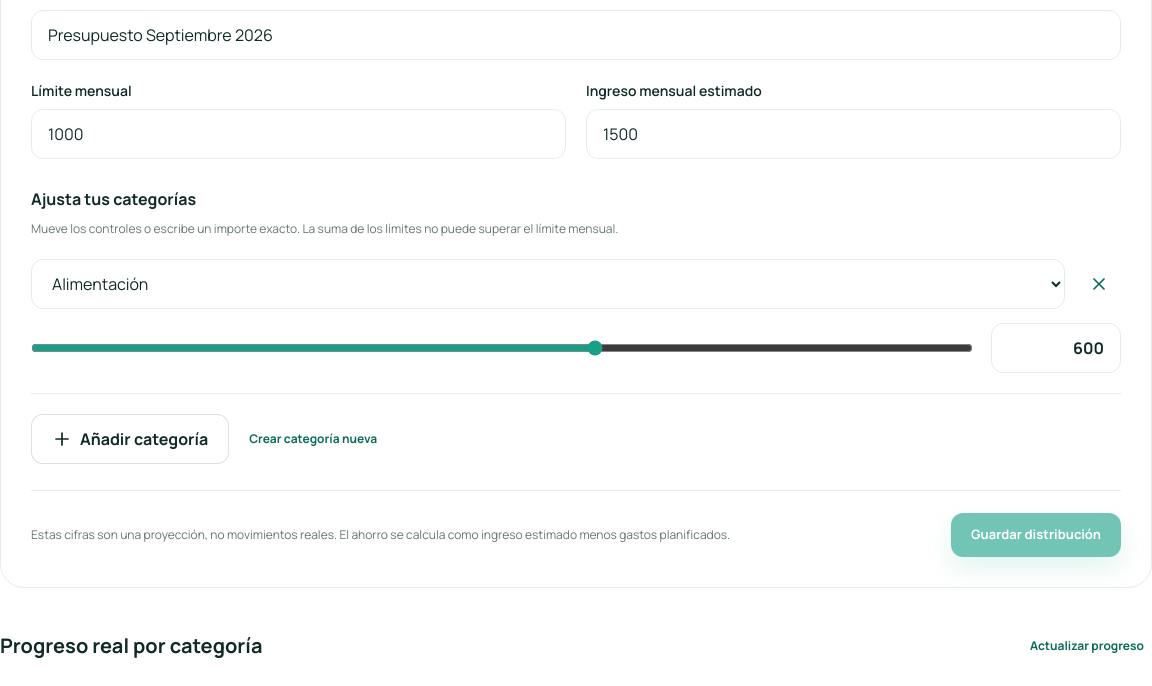
slider and manual input agree, blocks excess distribution
(page scrolled)
Set the slider to "250" at (270, 348), box [31,326,973,370]
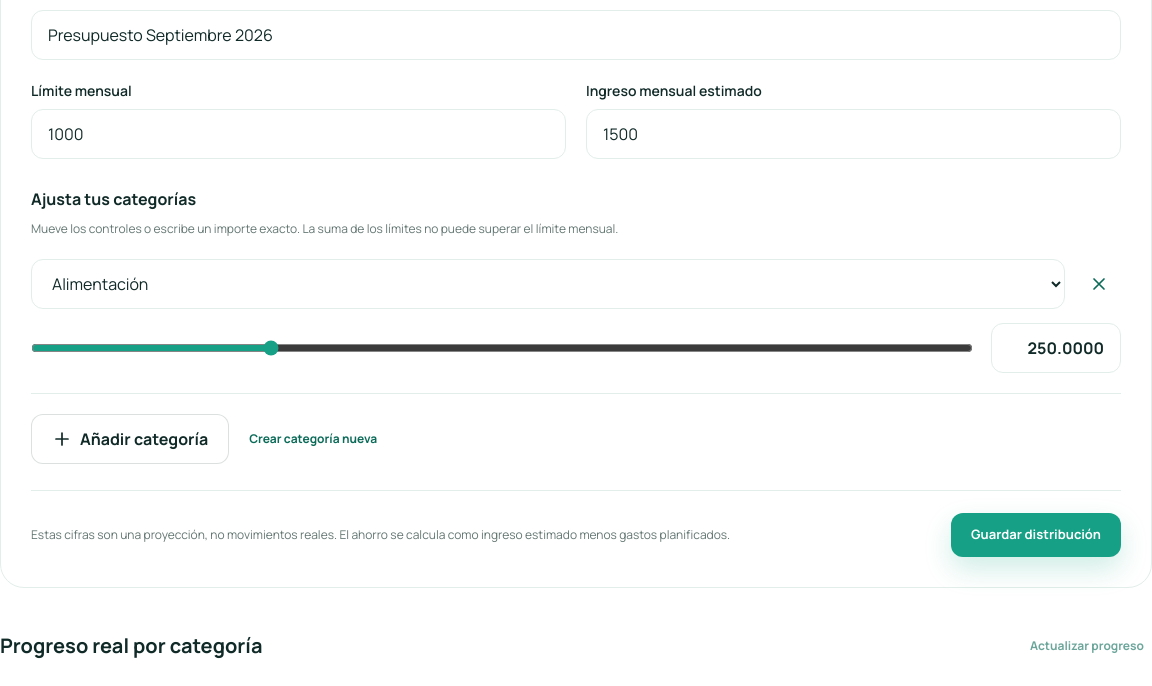
Result: the field named "Límite categoría 1" holds "250.0000"
Replace the text in the field named "Límite categoría 1" with "1001" at (1056, 348), box [991,323,1121,373]
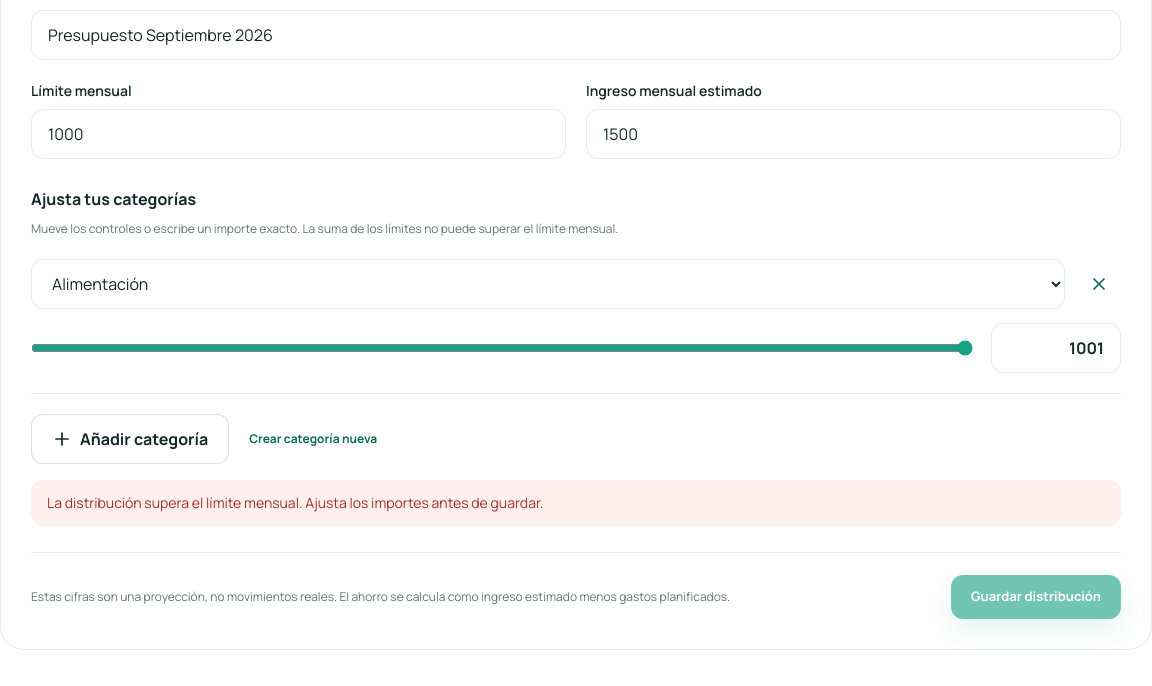
Result: the button "Guardar distribución" is disabled at [951,575,1121,619]
Result: the message shows "supera el límite" at [47,493,543,512]
